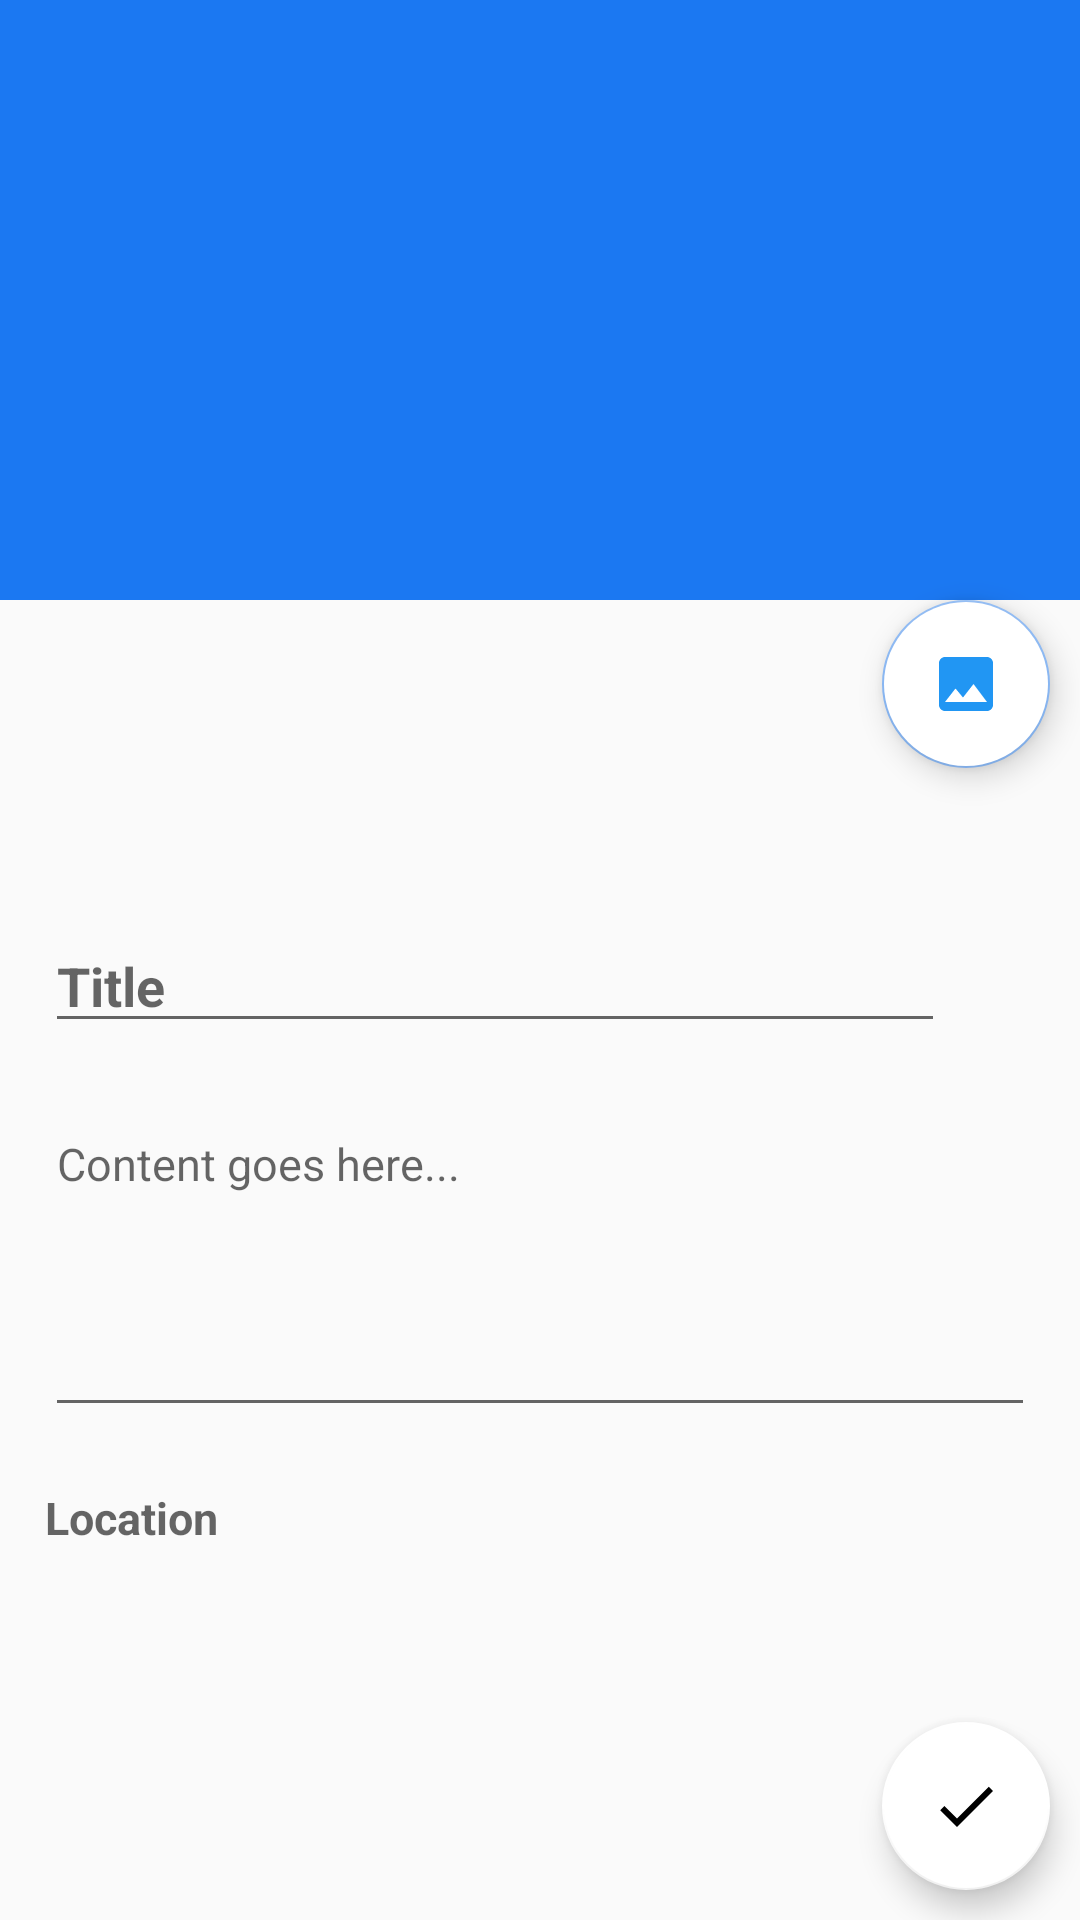

Where to tap for icons on this 1080x1920 app screen, as [x,y]:
done: [969,1838]
photo: [966,684]
